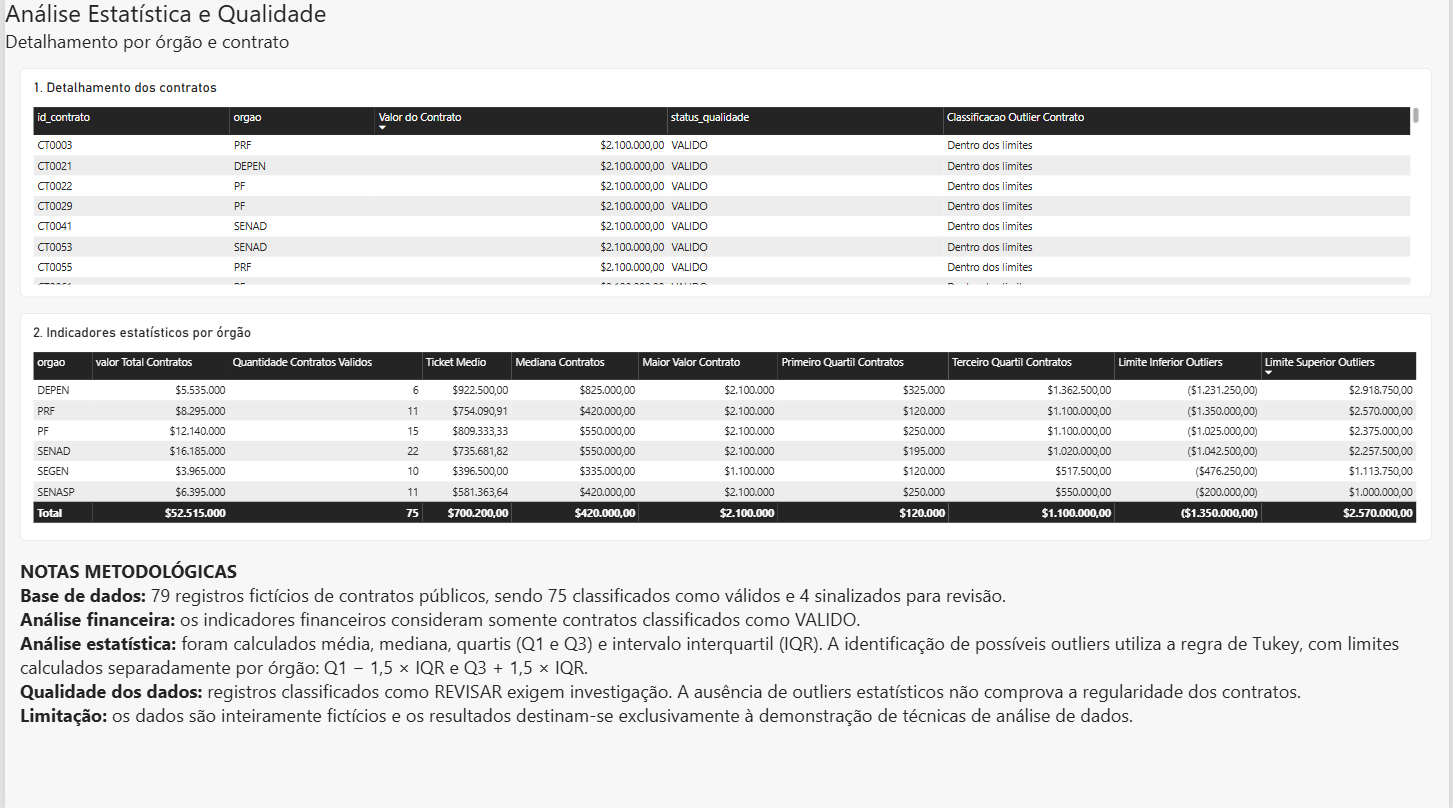

What the dashboard file says about the page in this screenshot:
{"tool":"powerbi","page":{"name":"02 - Análise Estatística e Qualidade","canvas":[1920,1080],"ordinal":1},"visuals":[{"type":"tableEx","title":"1. Detalhamento dos contratos","fields":{"Values":["Contratos.id_contrato","Contratos.orgao","Sum(Contratos.valor)","Contratos.status_qualidade","Contratos.Classificacao Outlier Contrato"]},"box":[20.4,96.3,1877.7,304.9],"z":0},{"type":"tableEx","title":"2. Indicadores estatísticos por órgão","fields":{"Values":["Contratos.orgao","Contratos.valor Total Contratos","Contratos.Quantidade Contratos Validos","Contratos.Ticket Medio","Contratos.Mediana Contratos","Contratos.Maior Valor Contrato","Contratos.Primeiro Quartil Contratos","Contratos.Terceiro Quartil Contratos","Contratos.Limite Inferior Outliers","Contratos.Limite Superior Outliers"]},"box":[20.4,421.6,1877.7,303.5],"z":2},{"type":"textbox","box":[0,0,1920,96.3],"z":3},{"type":"textbox","box":[20.4,747,1877.7,236.4],"z":4}]}

Visuals, with their boxes in screenshot pixels (x1, y1, x2, y2), scaled from the page's 1920x1080 canvas onto the 1453x808 screenshot:
"1. Detalhamento dos contratos" tableEx: left=15, top=72, right=1436, bottom=300
"2. Indicadores estatísticos por órgão" tableEx: left=15, top=315, right=1436, bottom=542
textbox: left=0, top=0, right=1452, bottom=72
textbox: left=15, top=559, right=1436, bottom=736
